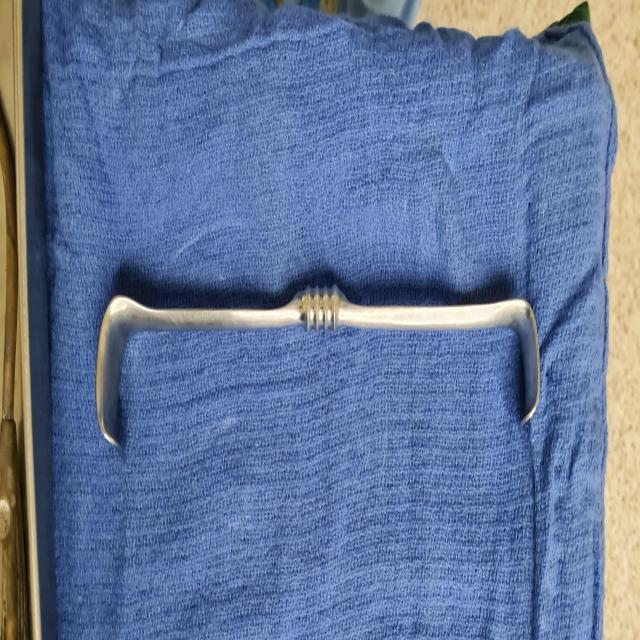Richardson: (89, 258, 544, 469)
